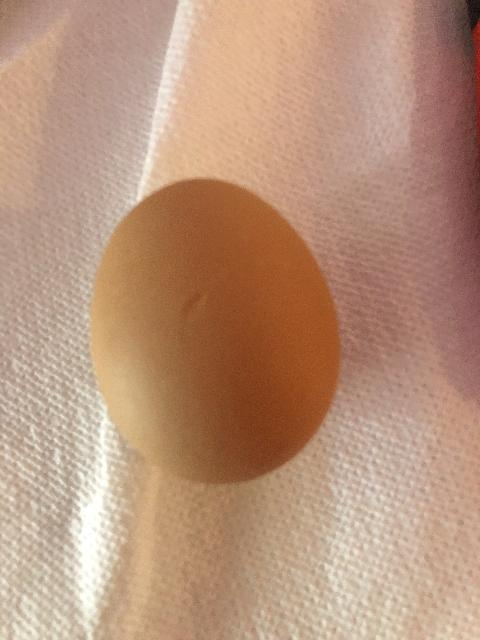Roto: (89, 176, 342, 485)
